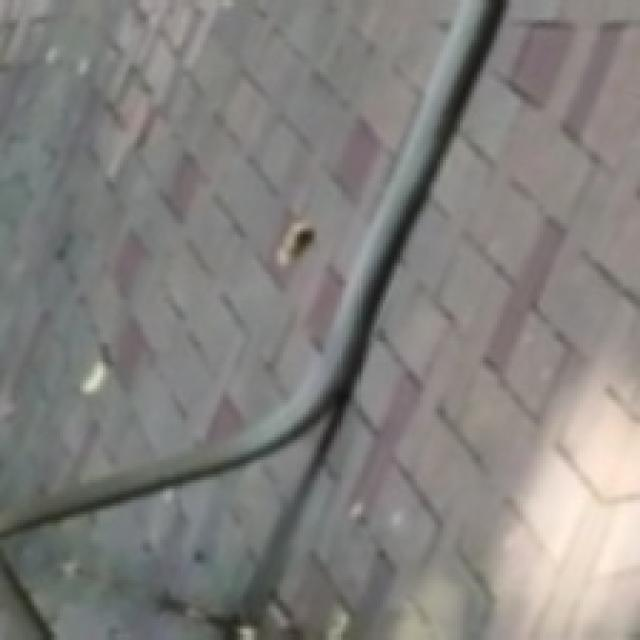king cobra: (0, 0, 434, 506), (0, 426, 320, 637)
